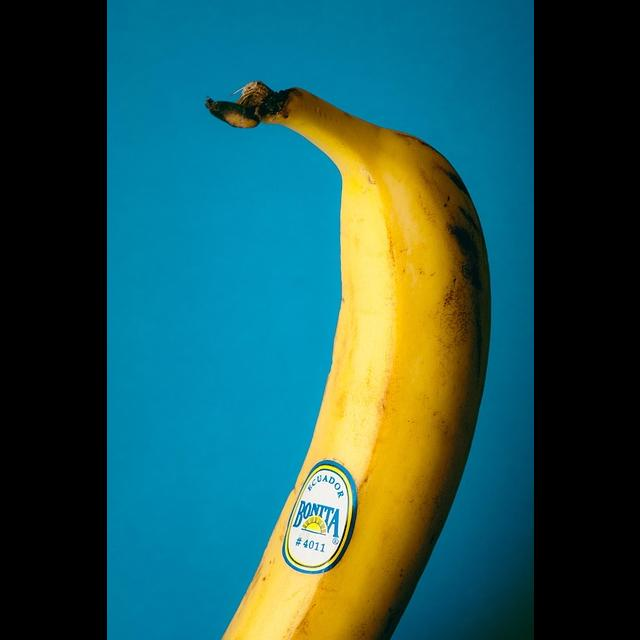apple: (209, 118, 499, 640)
